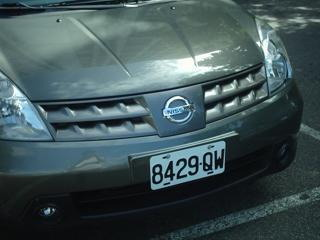plate: (146, 142, 225, 193)
